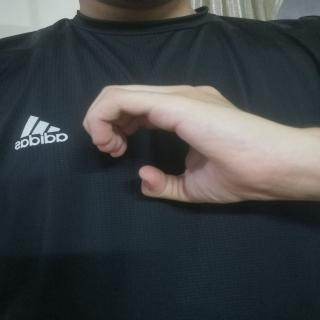JEEM: (73, 62, 288, 214)
